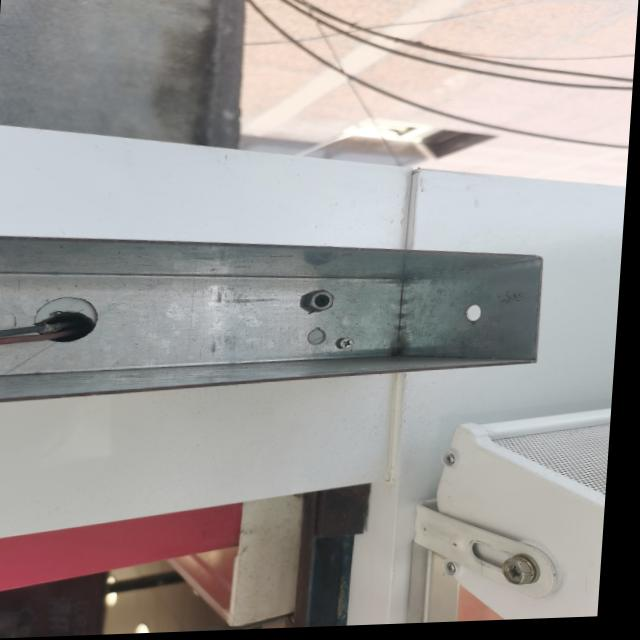Regular bolt: (509, 562, 546, 591), (306, 294, 340, 318)
